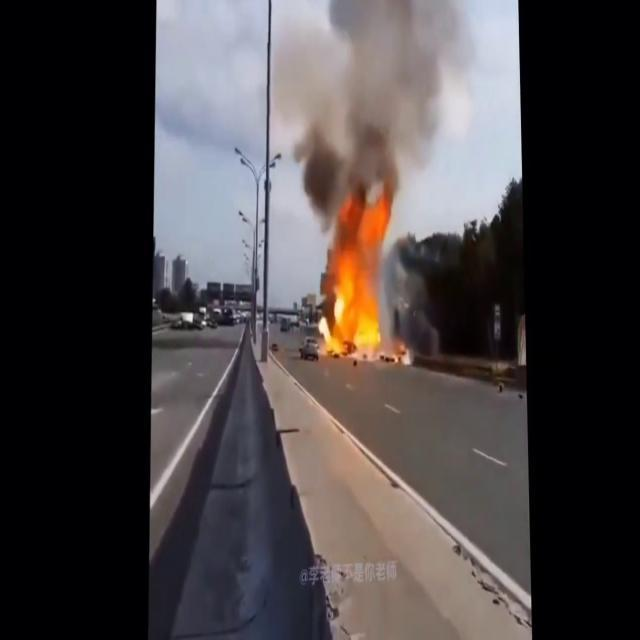Fire: (317, 206, 392, 360)
Smoke: (280, 1, 468, 232)
